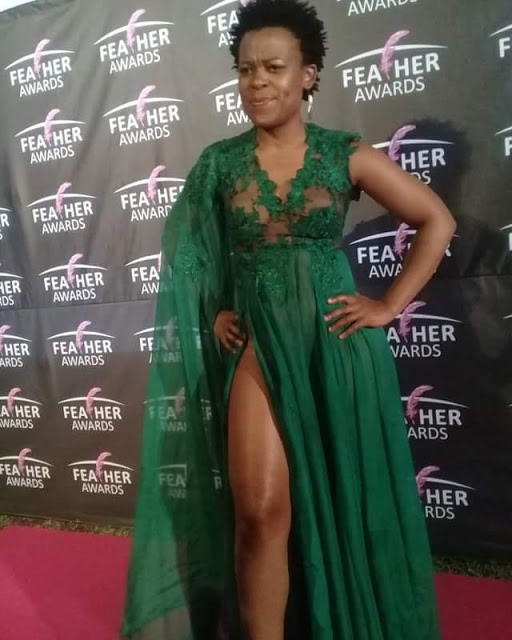face_no_mask: (225, 1, 325, 124)
